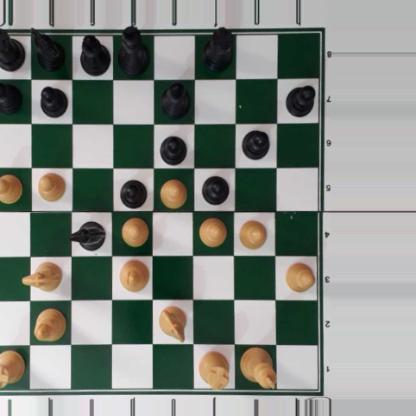black-bishop: (80, 32, 111, 76), (161, 80, 190, 118)
black-king: (117, 26, 150, 75)
black-knight: (33, 25, 65, 72), (68, 221, 105, 249)
black-pawn: (285, 84, 315, 117), (159, 134, 188, 165), (202, 173, 230, 205), (39, 84, 66, 117), (241, 128, 269, 158), (120, 178, 148, 208), (0, 79, 23, 114)
black-rook: (201, 26, 235, 70), (0, 27, 24, 69)
white-bishop: (34, 304, 65, 343), (119, 258, 149, 291)
white-king: (238, 345, 277, 390)
white-knight: (22, 261, 64, 293), (157, 304, 188, 341)
white-pawn: (284, 261, 315, 294), (199, 216, 228, 248), (159, 178, 188, 209), (238, 218, 267, 249), (37, 171, 65, 202), (121, 216, 148, 247), (0, 173, 23, 203)
white-rook: (197, 350, 230, 389), (0, 350, 27, 389)
